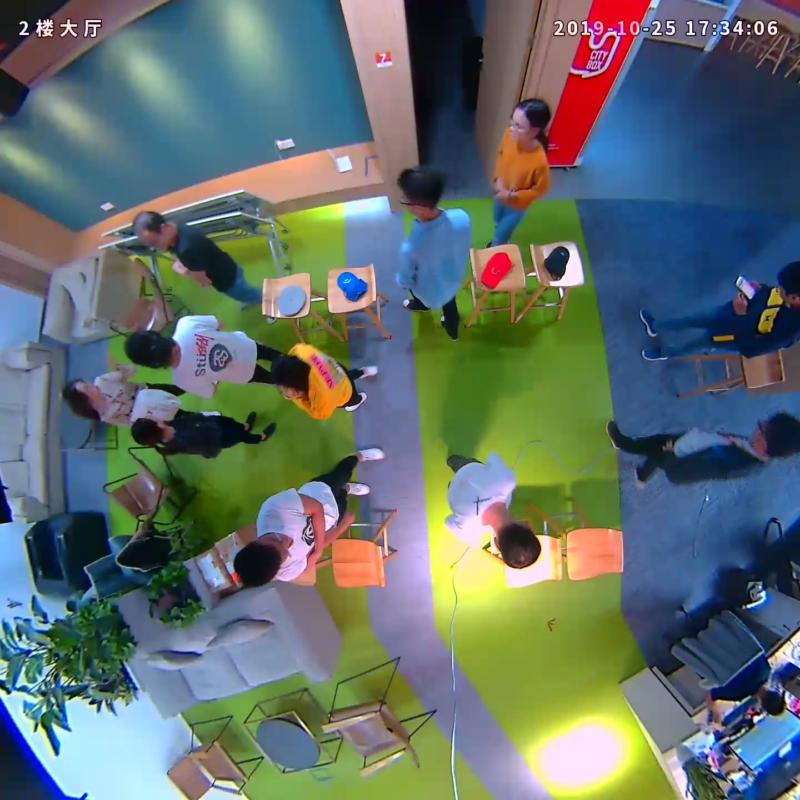head: (232, 531, 291, 589), (493, 520, 542, 569), (751, 413, 800, 461), (396, 166, 445, 213), (124, 328, 169, 369), (509, 97, 550, 142), (130, 210, 172, 253), (268, 355, 305, 391), (129, 417, 166, 446), (62, 378, 101, 401)
